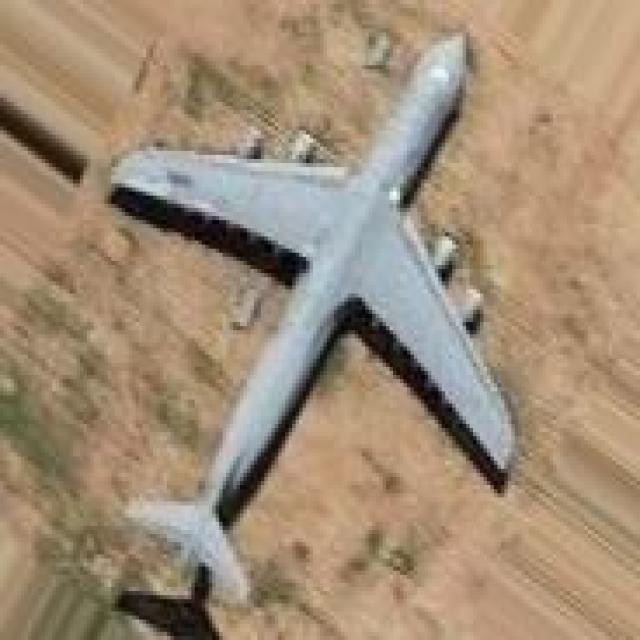C-5_TopDown: (104, 24, 518, 604)
